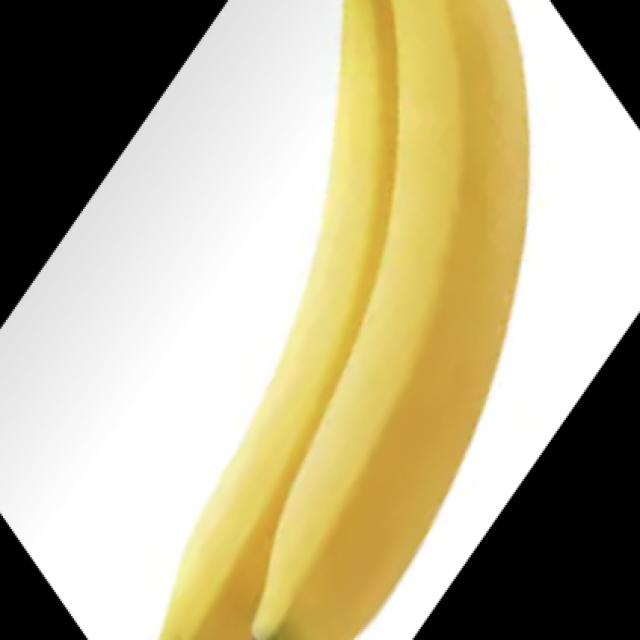god quality banana: (163, 2, 530, 640)
